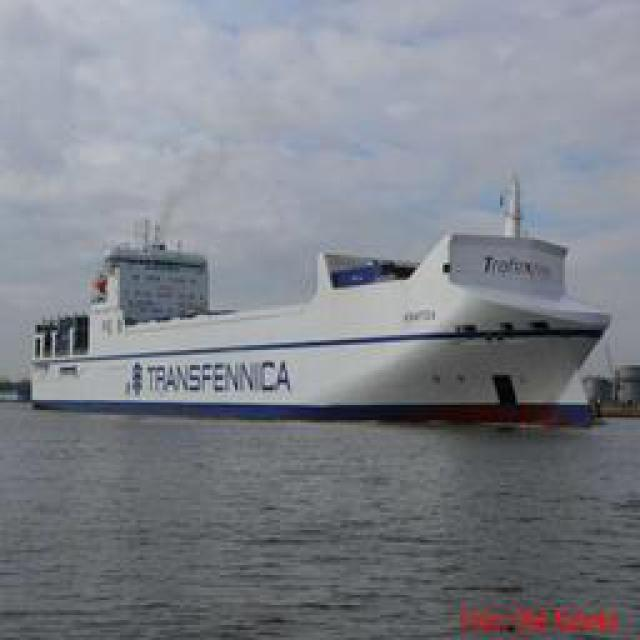Ship: (34, 169, 609, 419)
